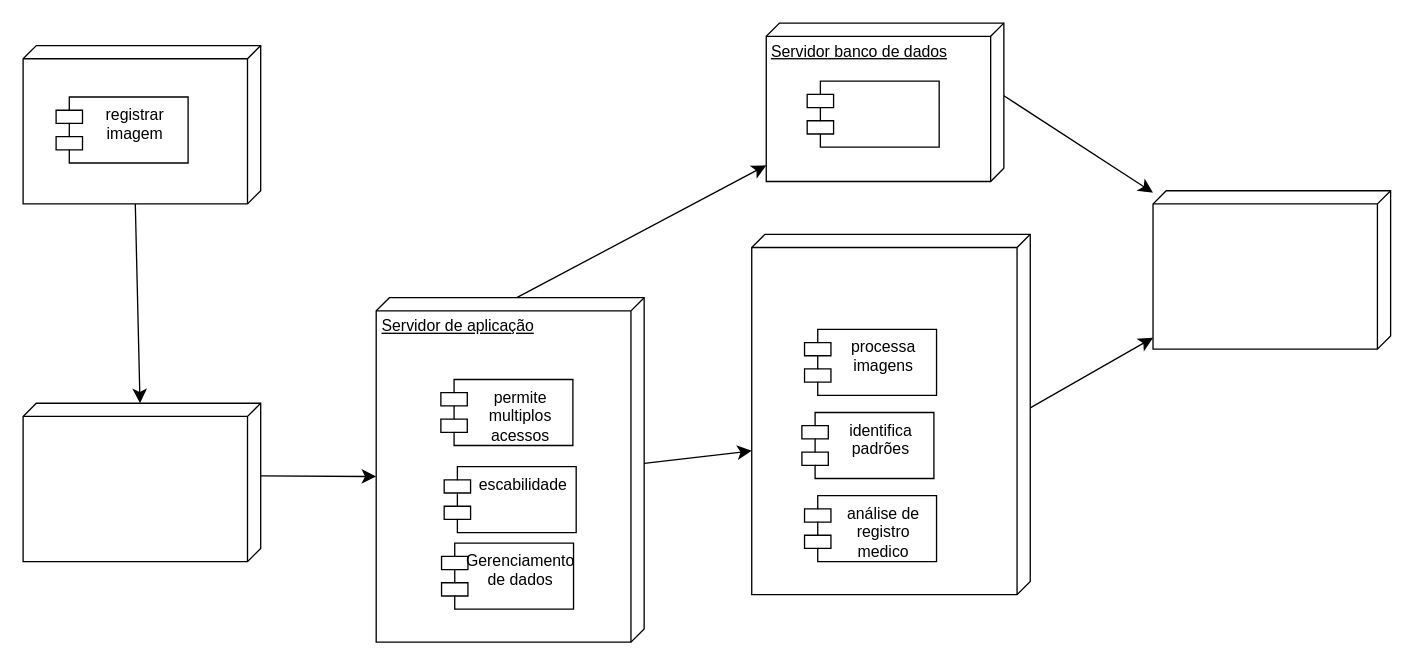
The diagram is 1414 pixels wide and 665 high, and some of its shapes have lost their labels. The shapes that lost their labels are listed below. From the top down, each one's box as (x1, y1, x2, y2) in pixels, then its label:
(22, 44, 261, 204): Maquinas
(806, 80, 939, 147): Desempenho
(1152, 189, 1391, 349): Nobreak
(750, 233, 1030, 595): Servidor de analise de dados
(22, 402, 261, 562): Firewall
